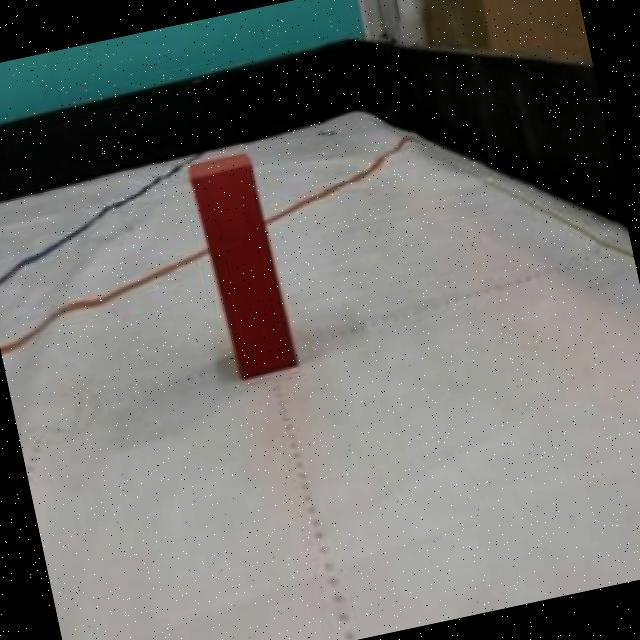redbox: (187, 147, 296, 381)
